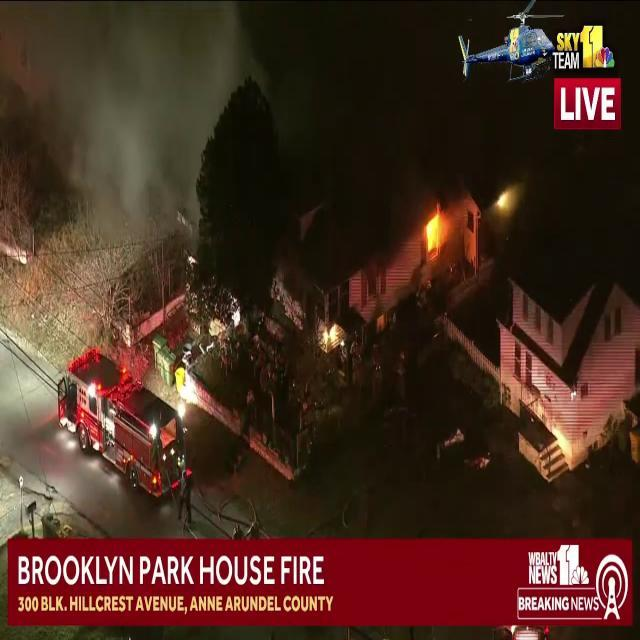Fire: (424, 203, 445, 254)
Smoke: (13, 2, 261, 223)
